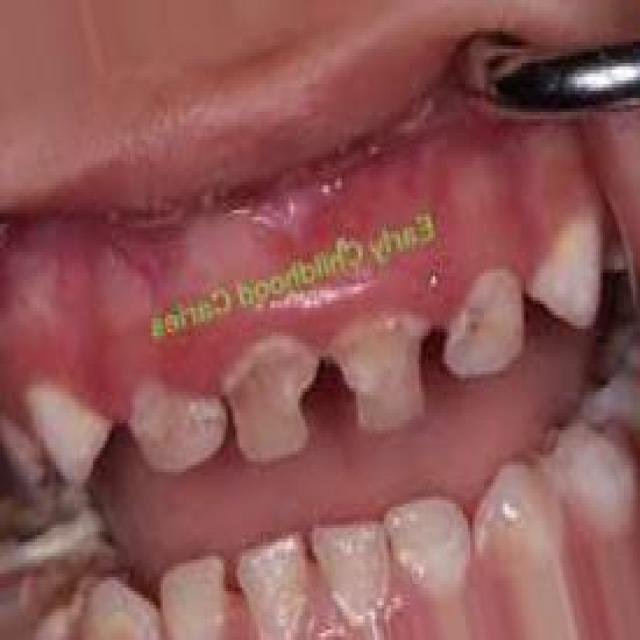caries: (329, 302, 432, 440), (224, 332, 320, 471), (442, 261, 526, 394), (129, 375, 223, 479)
